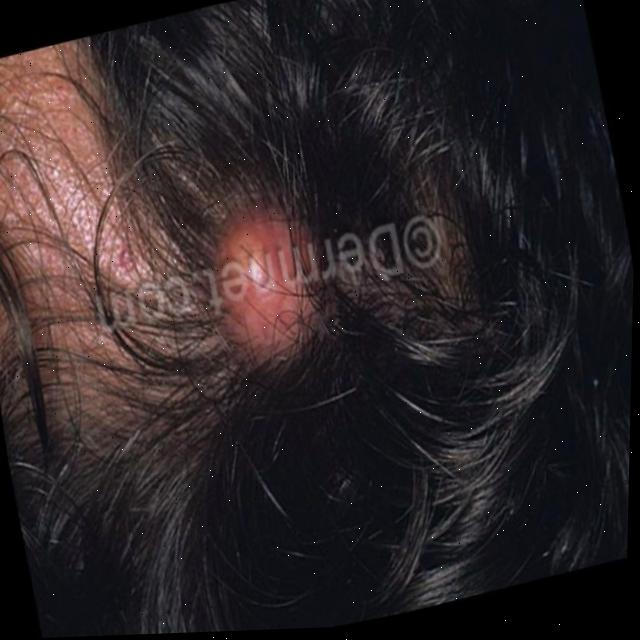Eczema: (208, 202, 344, 368)
